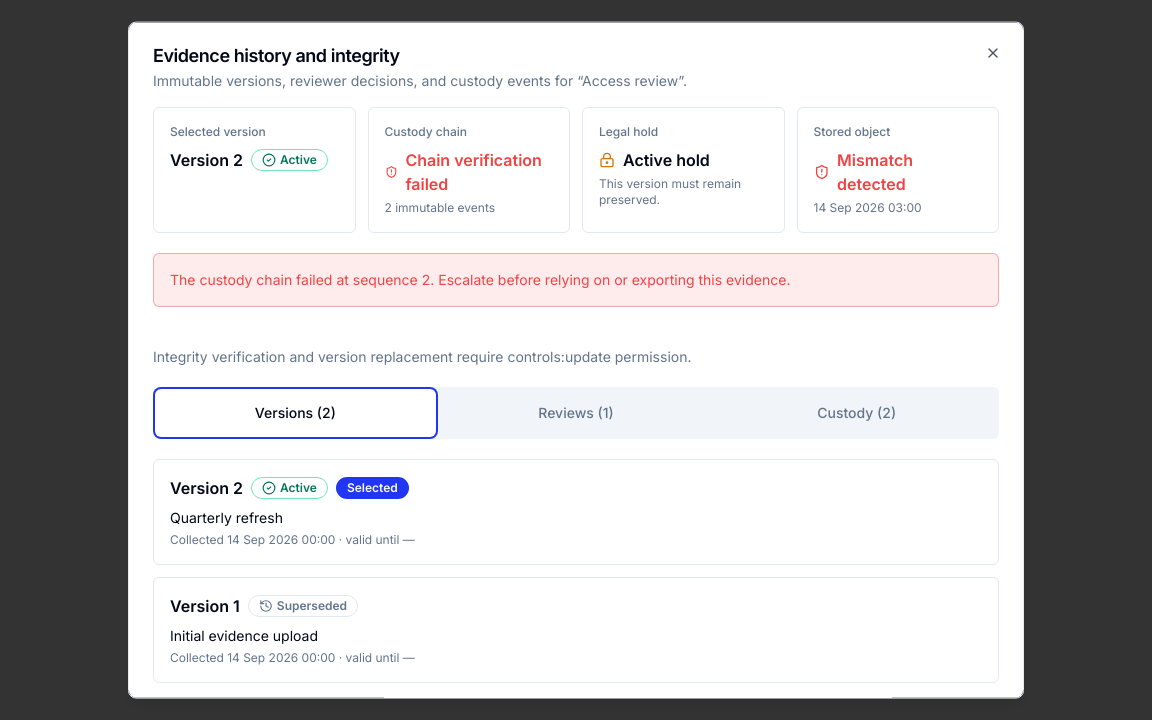
it: evidence lifecycle dialog › presents legal-hold, invalid-chain, review, and custody state without relying on colour
This screenshot has width=1152, height=720.
Expected: the text "Chain verification failed" is shown, [384, 148, 553, 196]
Expected: the text "Active hold" is shown, [599, 150, 710, 170]
Press Arrowright
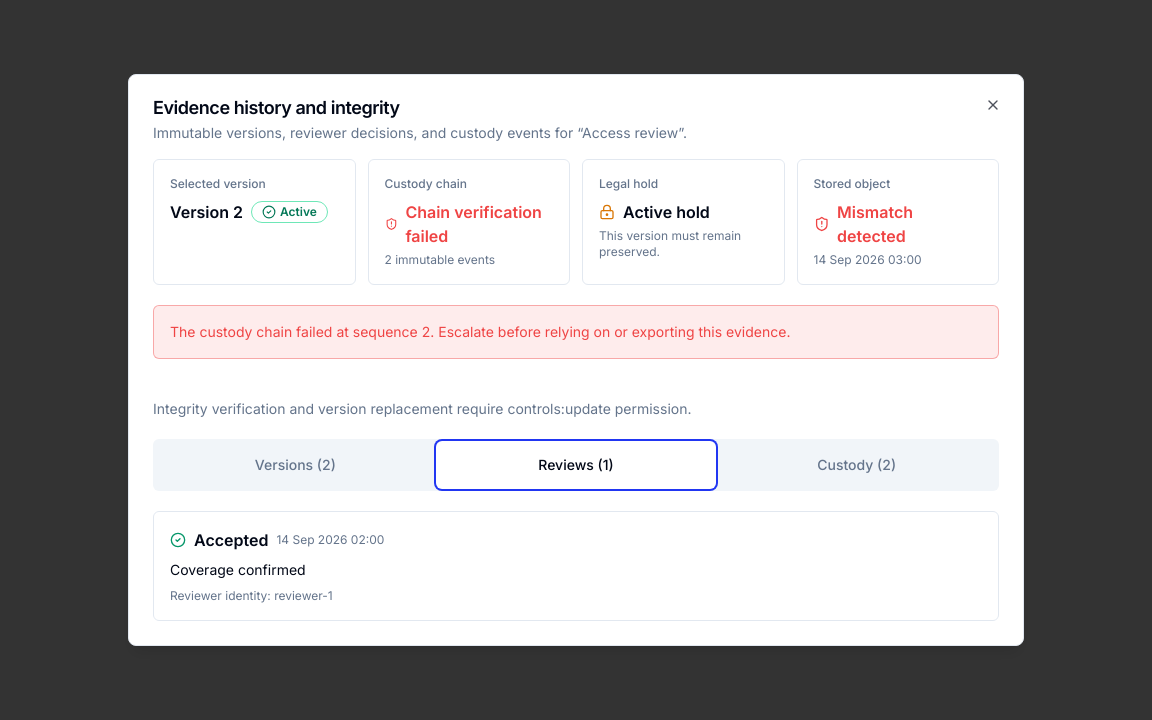
Result: the text "Coverage confirmed" is shown at [170, 561, 306, 578]
Click the tab "Custody (2)" at (857, 465), box [718, 443, 995, 487]
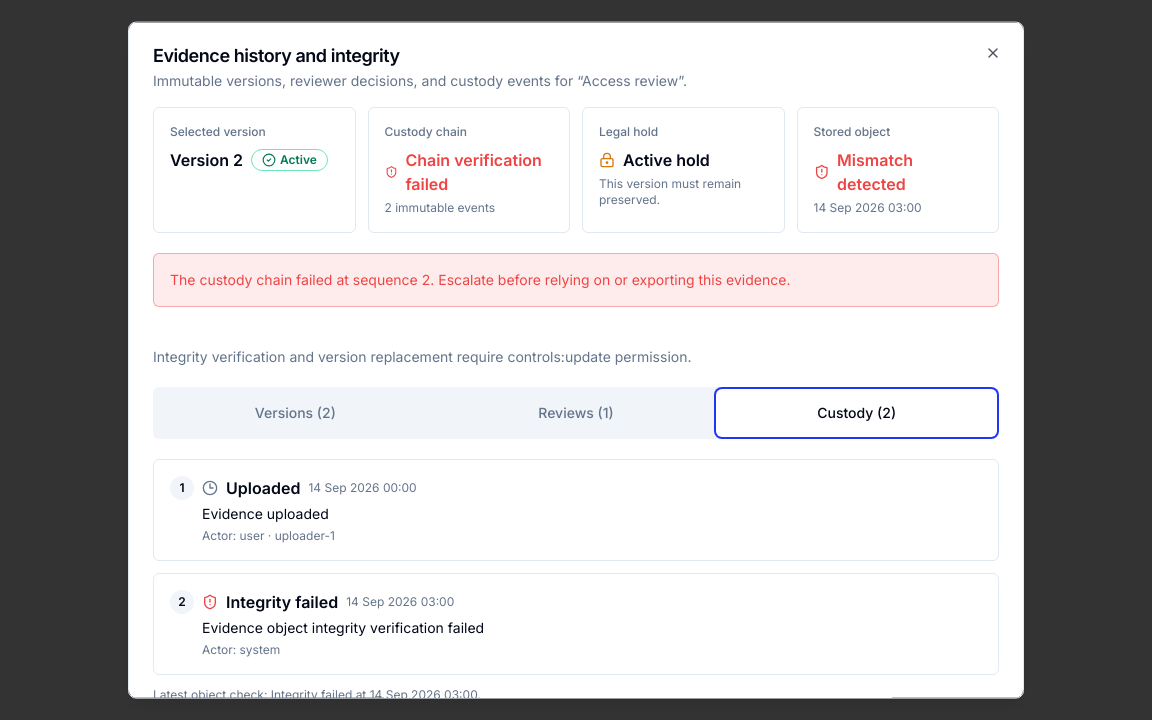
Result: the heading "Integrity failed" is shown at [226, 590, 338, 614]
Result: the text "Evidence object integrity verification failed" is shown at [202, 619, 484, 636]
